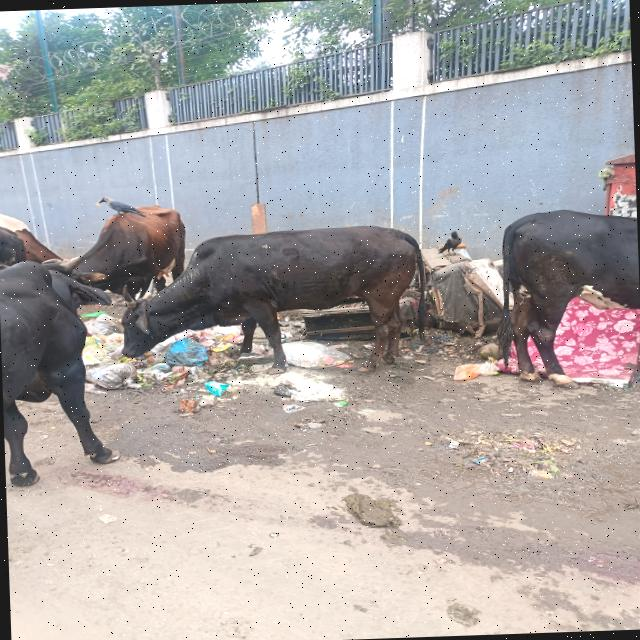garbage: (405, 243, 504, 379), (82, 323, 239, 392), (283, 306, 366, 378)
